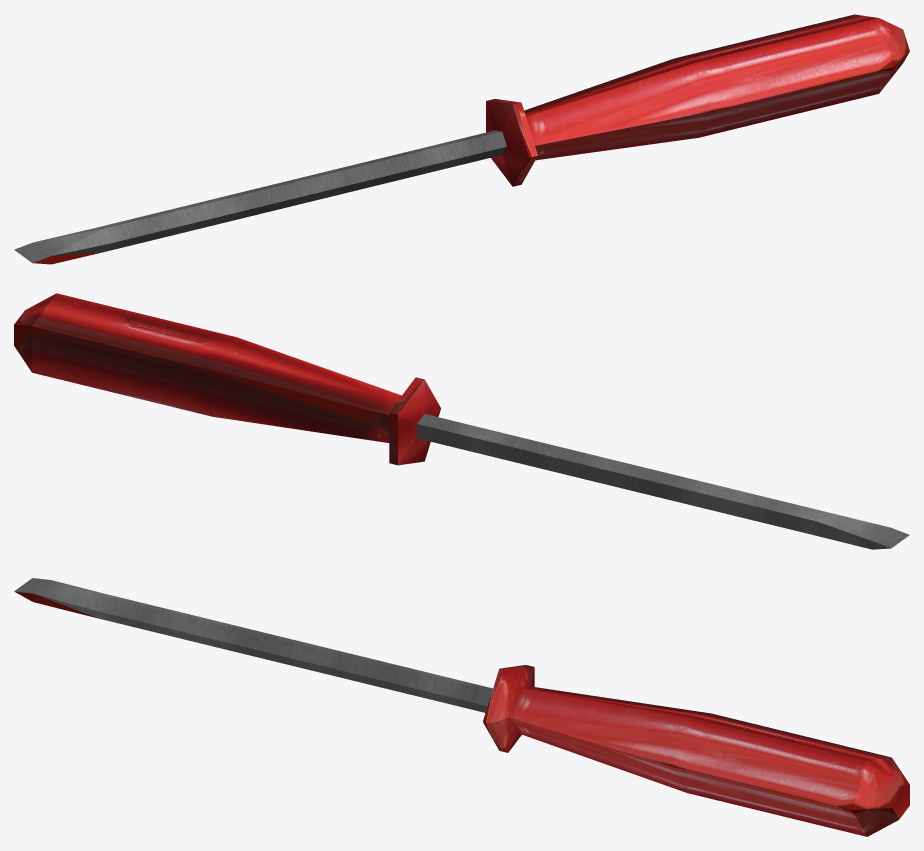
The model's file is screwer.fbx.
3 renders of one model, top to bottom at view 1: azimuth 30°, elevation 25°; view 2: azimuth 150°, elevation 25°; view 3: azimuth 330°, elevation 25°, orthographic.
Visible parts, largest first — view 1: screwer_Layer1; view 2: screwer_Layer1; view 3: screwer_Layer1.
Part boxes in pixels (x1,y1,x2,y2): screwer_Layer1: (14,14,909,264); screwer_Layer1: (14,293,909,549); screwer_Layer1: (14,578,909,836).
Size of the model in its own units: 58.78 by 5.26 by 5.
1 material, 1 textured.
